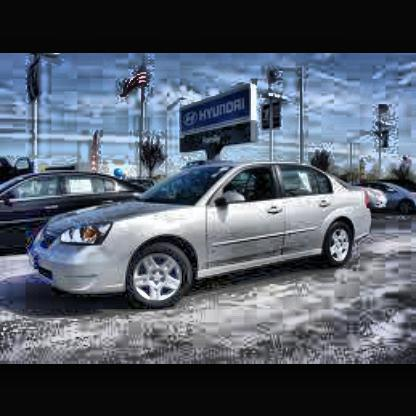Chevrolet Malibu Sedan 2007: (37, 164, 372, 300)
